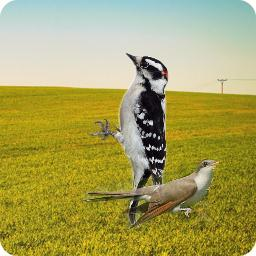Cuckoo: (83, 159, 219, 229)
Woodpecker: (87, 50, 171, 228)
